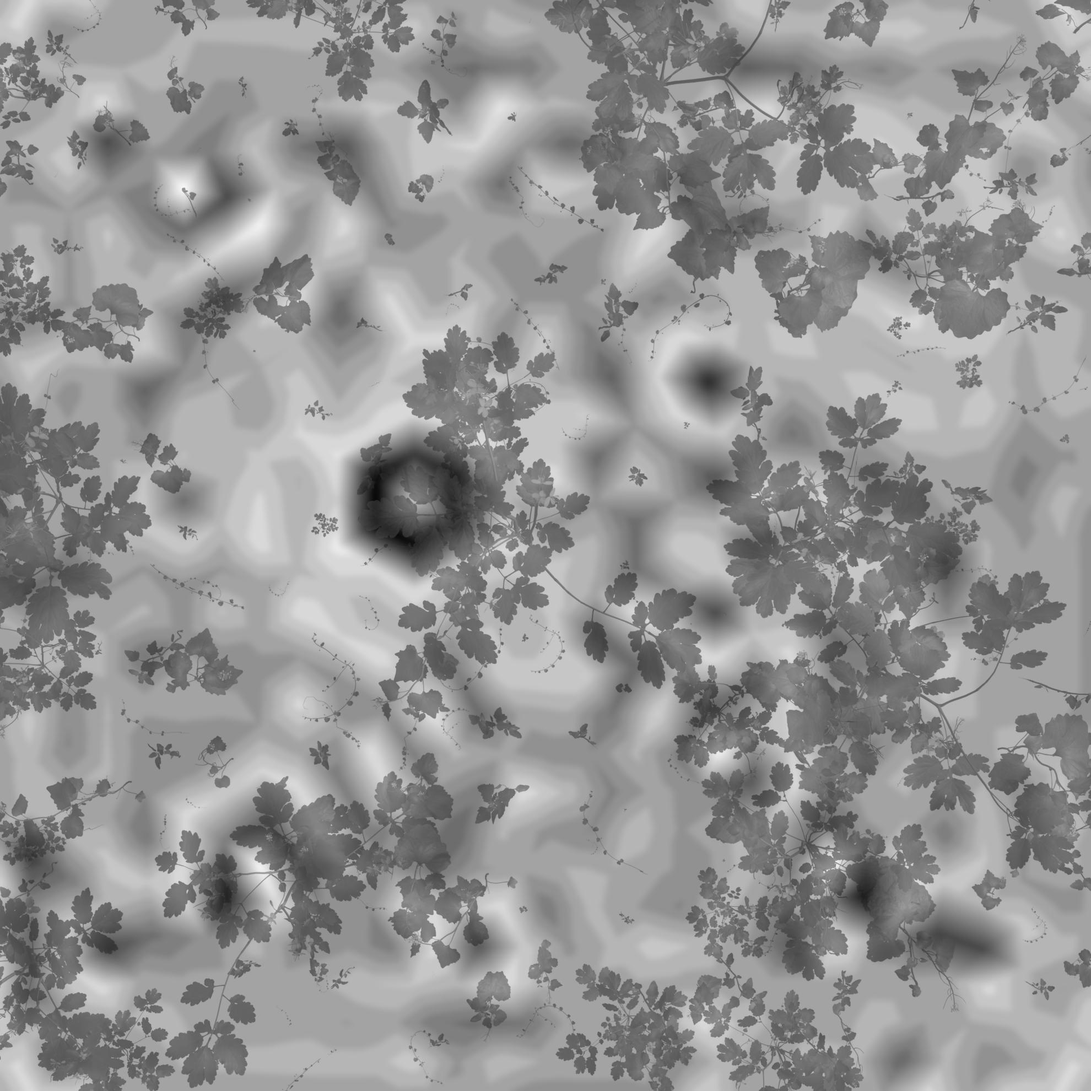landmine: (347, 433, 491, 566)
